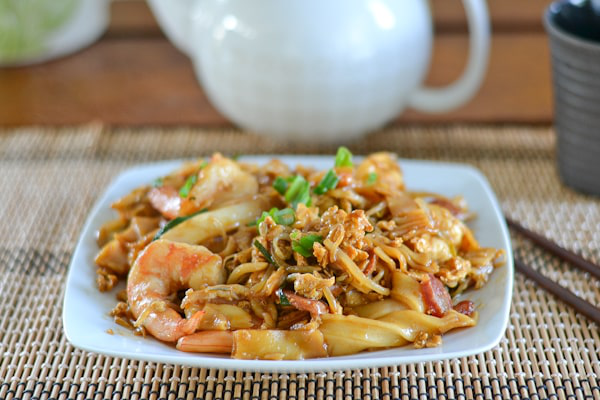Char Kway Teow: (100, 157, 493, 363)
